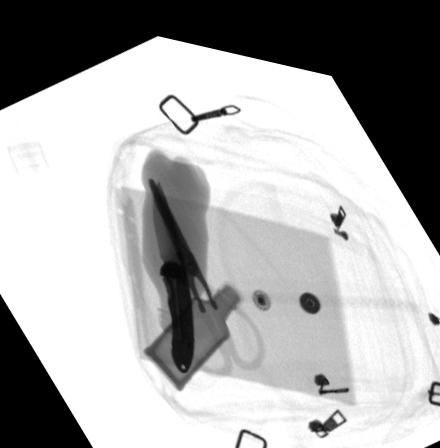Knife: (149, 171, 195, 365)
Scissors: (145, 169, 263, 366)
